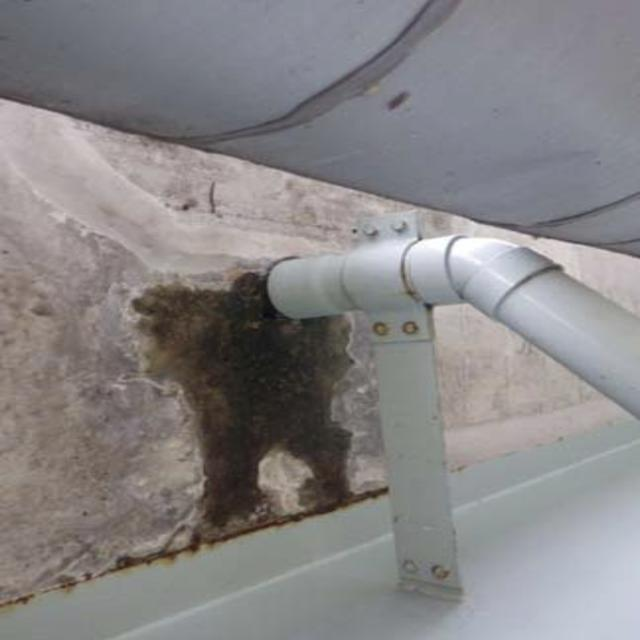leakage: (136, 277, 360, 519)
